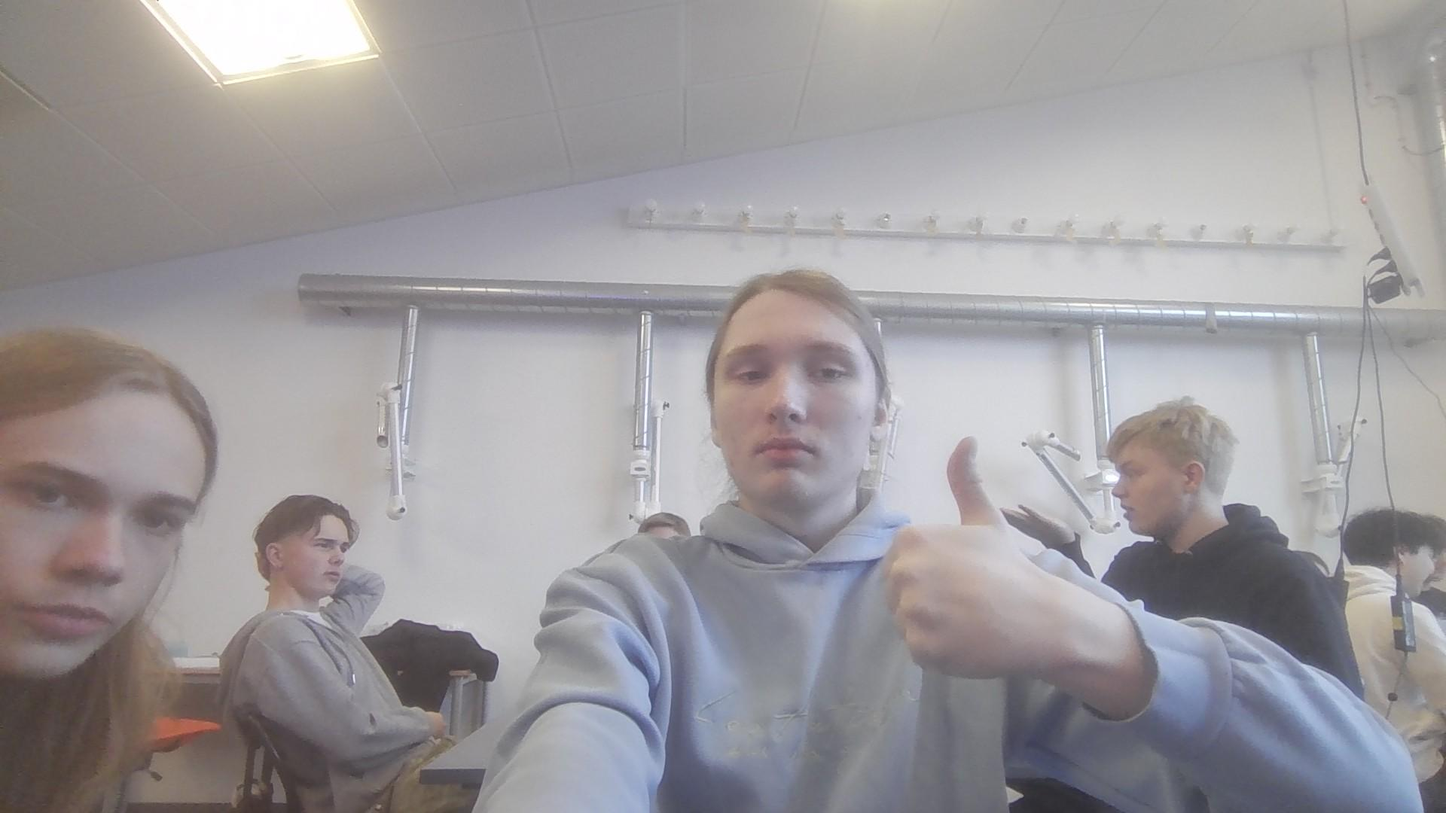thumbs up: (889, 432, 1067, 682)
